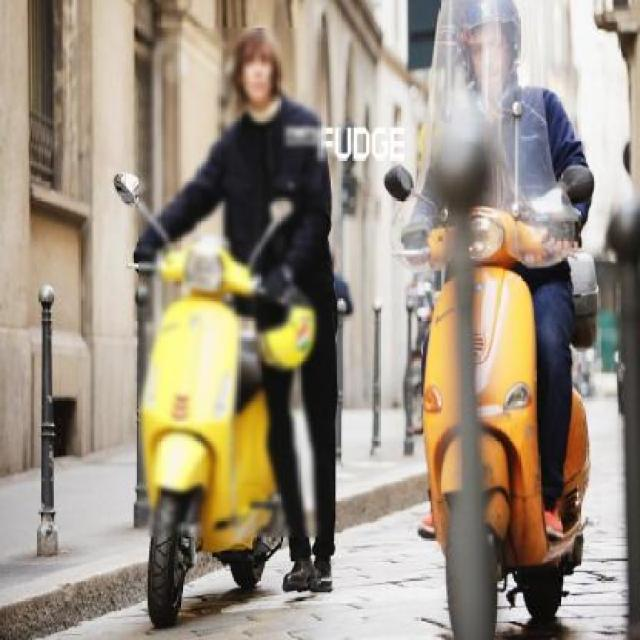helmet: (448, 0, 538, 111), (220, 28, 283, 122)
motorcycle: (99, 26, 358, 638), (398, 1, 601, 640)
